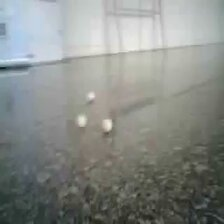w: (99, 118, 112, 133), (75, 115, 87, 127), (87, 92, 95, 101)
